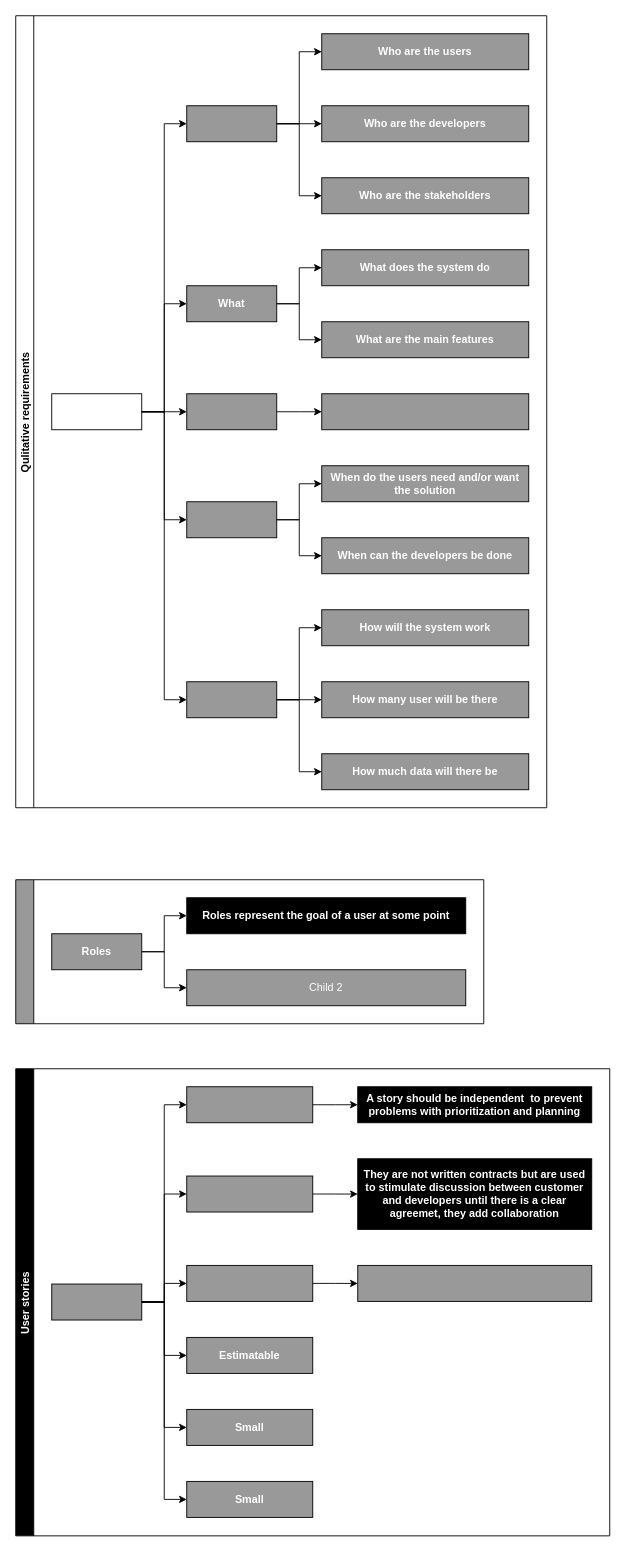
Some shapes in this 626 by 1552 pixel diagram are drawn without their labels. The shapes that lost their labels are listed below. From the top down, each one's centre as x and y in pixels, then its label:
[231,123]: Who
[96,411]: The user's point of view
[231,411]: Why
[425,411]: Why is the system needed
[231,519]: When
[231,699]: How
[249,1104]: Independent
[249,1193]: Negotiable
[96,1301]: INVEST Criteria
[249,1282]: Valuable
[474,1282]: Story should provide value to users
